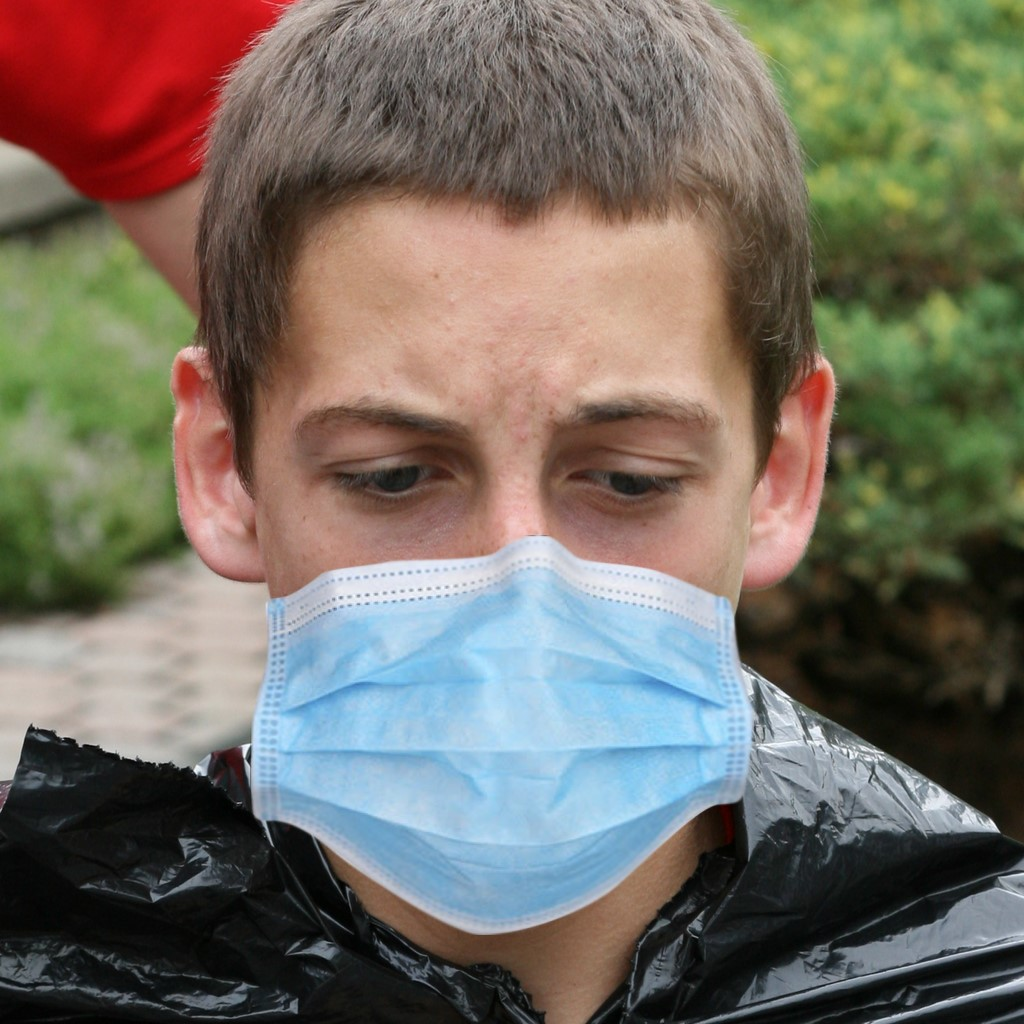con_mascara: (216, 128, 786, 903)
